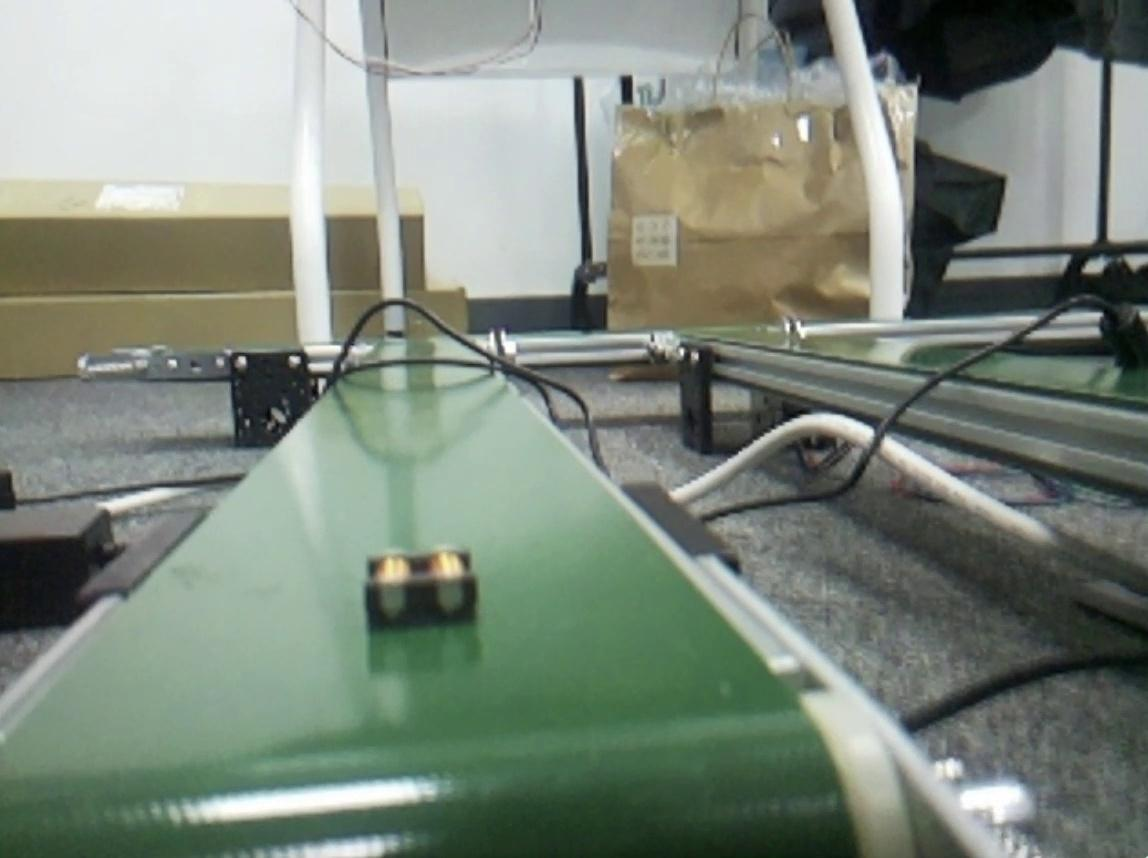inductor: (368, 553, 478, 618)
